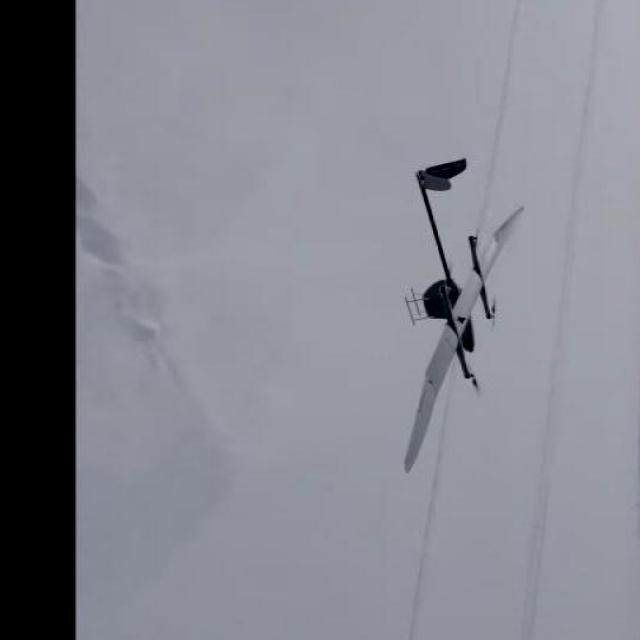plane: (401, 156, 526, 474)
